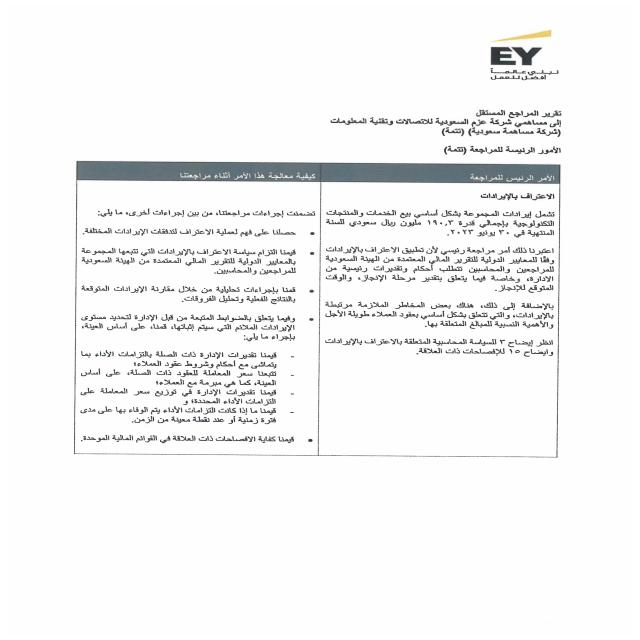auditor_report: (424, 141, 570, 156), (472, 108, 561, 120)
